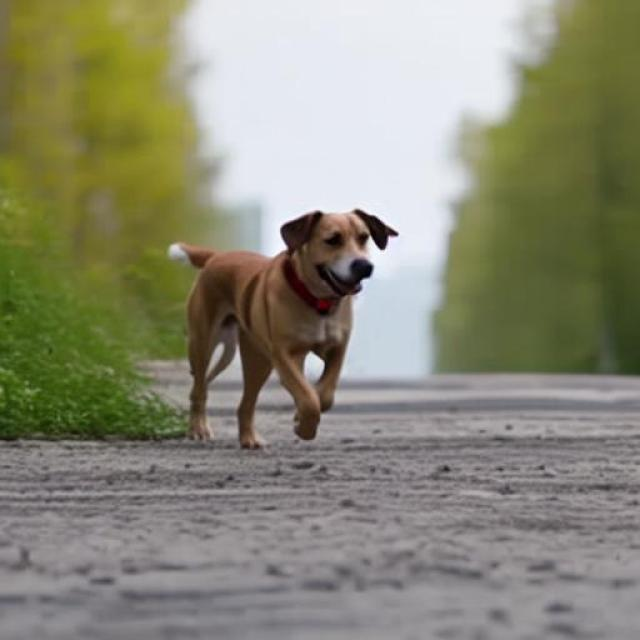Dog: (168, 209, 398, 450)
